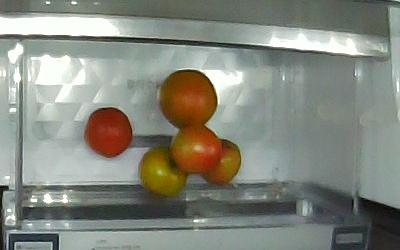tomato: (160, 69, 218, 129), (139, 146, 187, 197), (169, 126, 221, 173), (86, 107, 132, 157), (201, 139, 242, 185)
